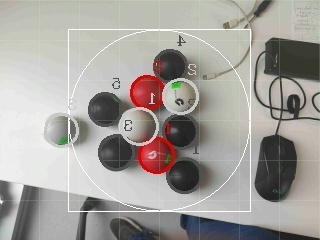Pelota blanca: (253, 37, 317, 120), (118, 107, 159, 144), (161, 77, 201, 114), (44, 111, 81, 148)
Pelota negra: (253, 133, 299, 202), (98, 133, 133, 172), (166, 157, 201, 195), (151, 47, 187, 82), (164, 113, 199, 148), (88, 91, 123, 126)
Pelota roja: (138, 135, 177, 174), (130, 73, 165, 111)
